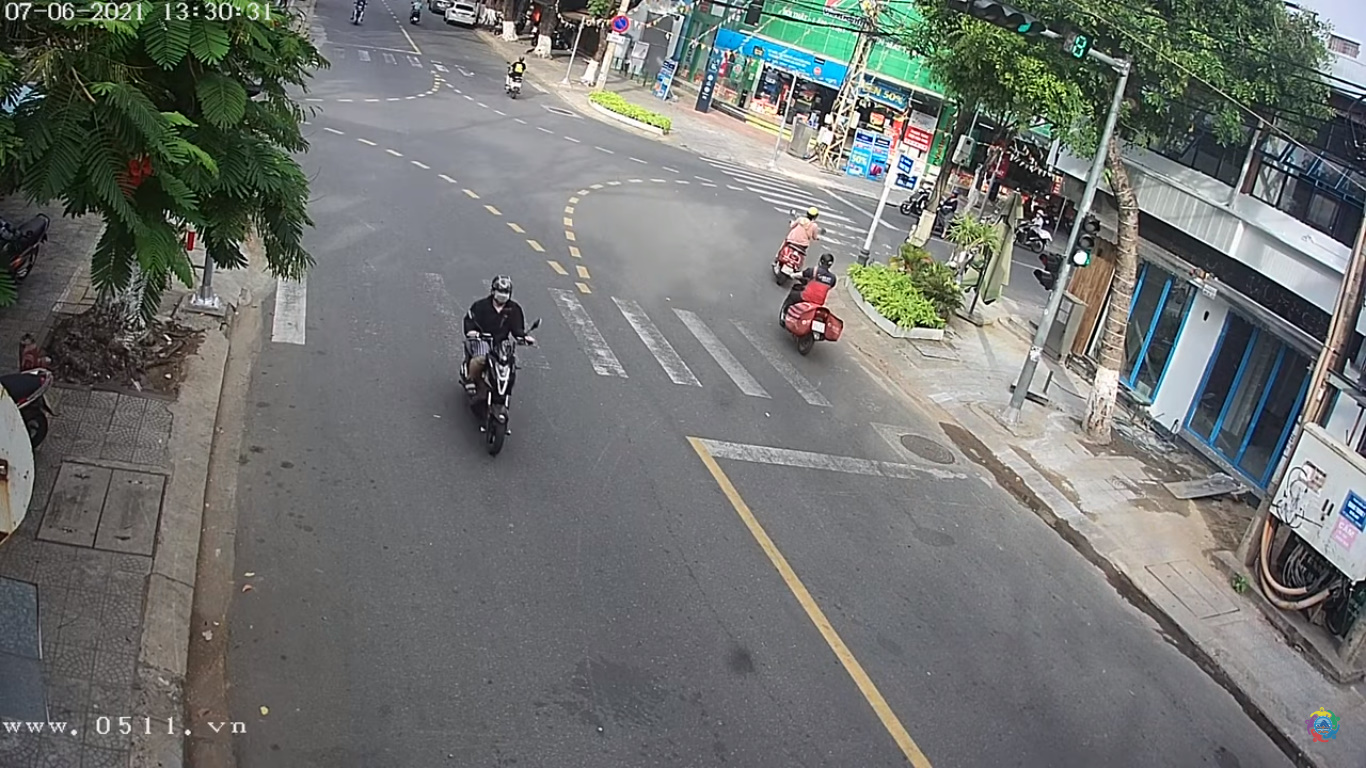motorbike: (458, 278, 534, 449)
